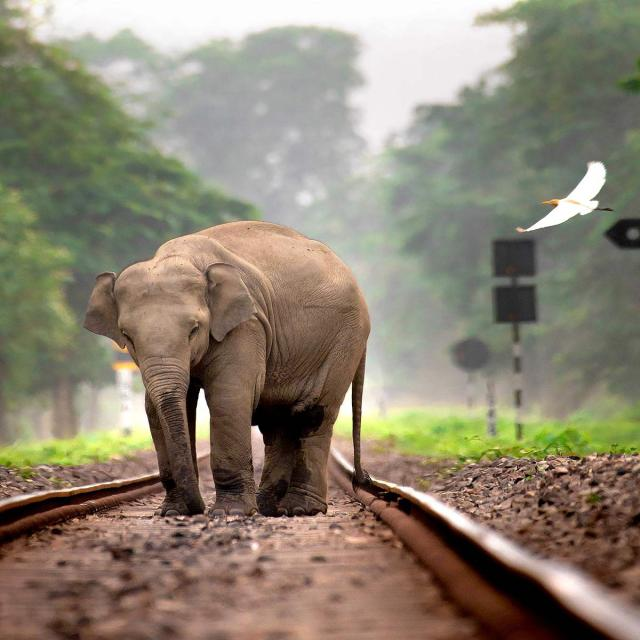Elephant: (77, 210, 400, 525)
